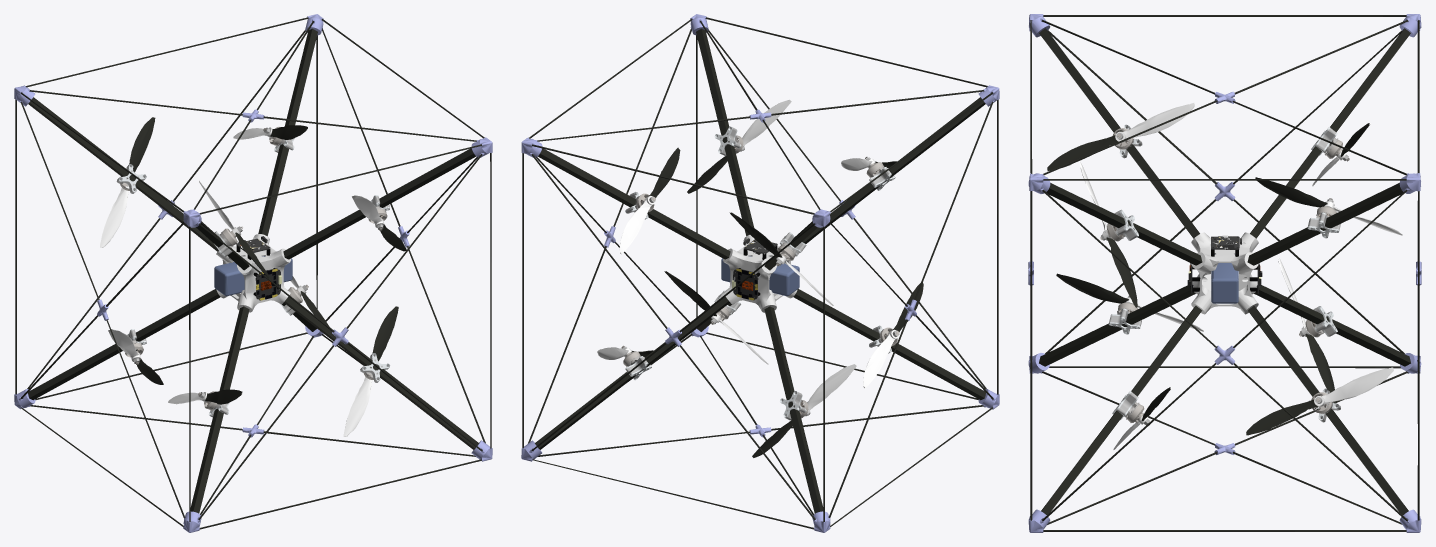
Rendered from Drone.fbx.
The picture shows the model from 3 angles, left to right: view 1: azimuth 30°, elevation 25°; view 2: azimuth 150°, elevation 25°; view 3: azimuth 270°, elevation 25°; orthographic projection. The views are drawn at different scales.
Visible parts, largest first — view 1: Solid1; view 2: Solid1; view 3: Solid1.
Boxes of the visible parts, bbox=[...] form: Solid1: bbox=[14, 14, 492, 532]; Solid1: bbox=[521, 14, 999, 532]; Solid1: bbox=[1028, 14, 1421, 532].
Bounding box in the file's own units: 6.32 × 6.32 × 6.32.
